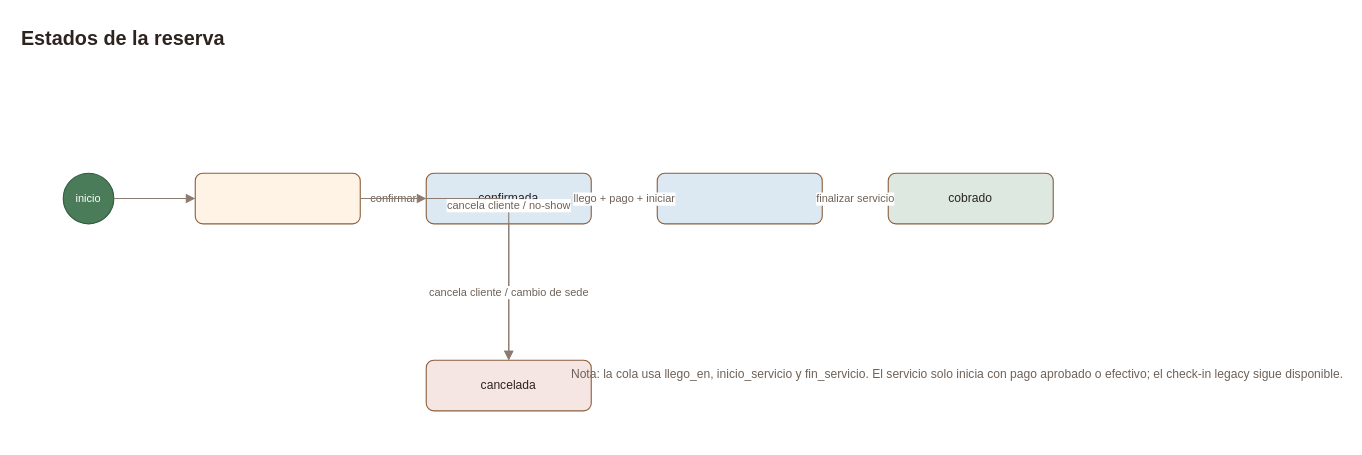
Image size: 1362x455. Some labels were removed from this diagram. The shapes that lost their labels are listed below. From the top down, each one's centre as x and y in pixels, then its label:
At point 277,198: "pendiente".
At point 739,198: "en_curso".
